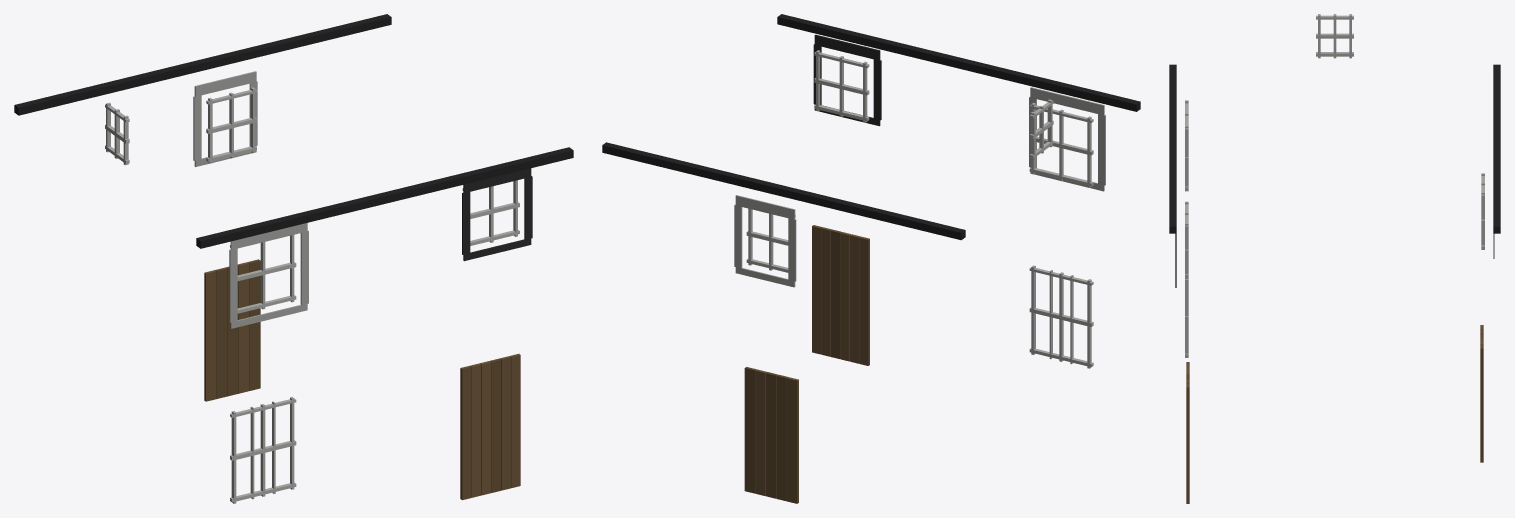
Rendered from SM_Bld_010_Wood.glb.
The picture shows the model from 3 angles, left to right: view 1: azimuth 30°, elevation 25°; view 2: azimuth 150°, elevation 25°; view 3: azimuth 270°, elevation 25°; orthographic projection. The views are drawn at different scales.
Parts seen in each view (by area): view 1: SM_Bld_010_Wood; view 2: SM_Bld_010_Wood; view 3: SM_Bld_010_Wood.
Boxes of the visible parts, x1=… form: SM_Bld_010_Wood: x1=14, y1=14, x2=573, y2=503; SM_Bld_010_Wood: x1=602, y1=14, x2=1140, y2=503; SM_Bld_010_Wood: x1=1169, y1=14, x2=1500, y2=503.
Bounding box in the file's own units: 6.11 × 6.15 × 5.28.
